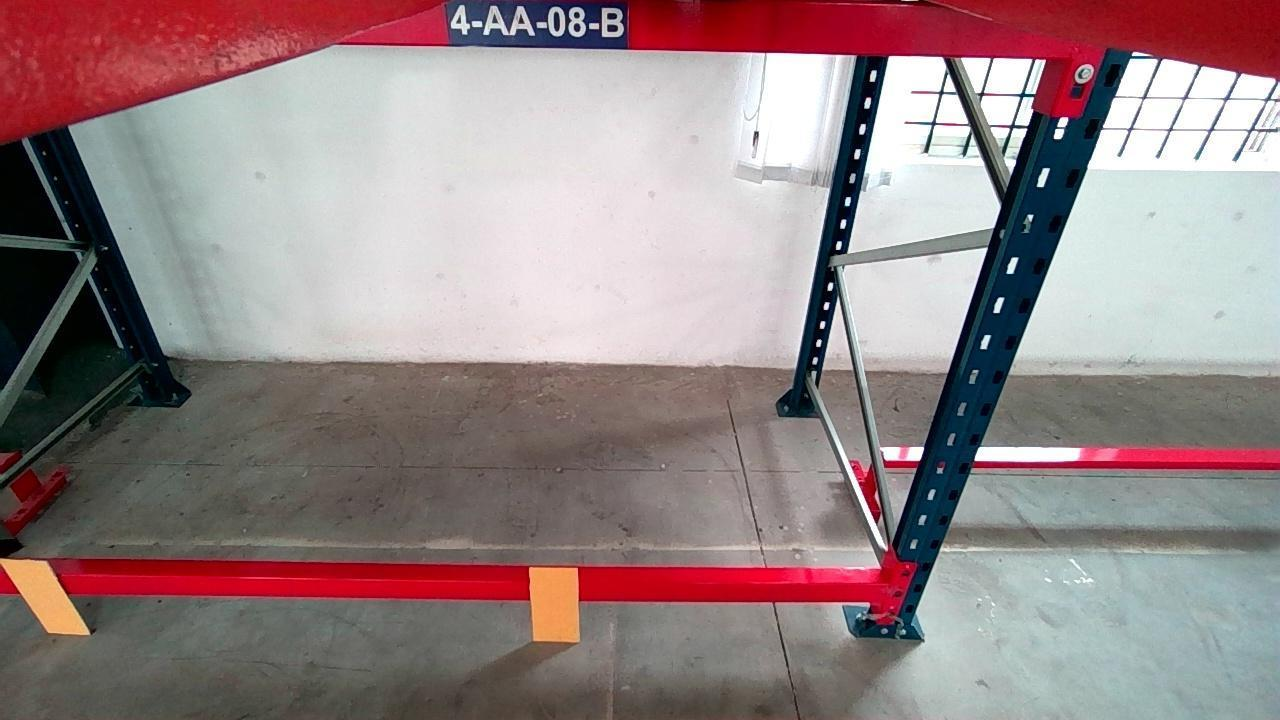h_rack: (0, 572, 885, 604)
orange_strip: (0, 560, 89, 636), (529, 569, 579, 645)
